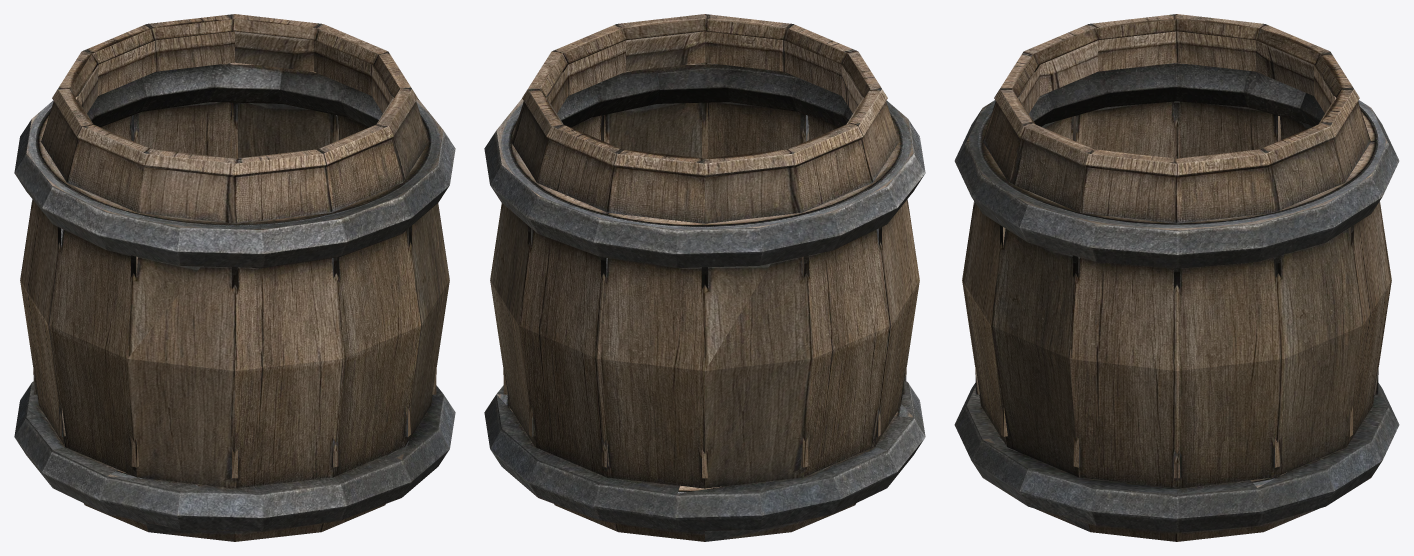
The model's file is kit_open_barrel.glb.
The picture shows the model from 3 angles, left to right: view 1: azimuth 30°, elevation 25°; view 2: azimuth 150°, elevation 25°; view 3: azimuth 270°, elevation 25°; orthographic projection.
Visible parts, largest first — view 1: Open barrel staves, Open barrel iron hoop.001, Open barrel iron hoop, Open barrel rim, Barrel inner lip; view 2: Open barrel staves, Open barrel iron hoop.001, Open barrel iron hoop, Open barrel rim, Barrel inner lip; view 3: Open barrel staves, Open barrel iron hoop.001, Open barrel iron hoop, Open barrel rim, Barrel inner lip.
Boxes of the visible parts, x1,y1,x2,y2 form: Open barrel staves: [20, 72, 449, 541]; Open barrel iron hoop.001: [14, 62, 455, 267]; Open barrel iron hoop: [14, 381, 455, 531]; Open barrel rim: [52, 14, 417, 177]; Barrel inner lip: [77, 31, 392, 123]; Open barrel staves: [490, 72, 919, 541]; Open barrel iron hoop.001: [484, 62, 925, 267]; Open barrel iron hoop: [484, 381, 925, 531]; Open barrel rim: [522, 14, 887, 177]; Barrel inner lip: [547, 31, 862, 123]; Open barrel staves: [962, 72, 1391, 541]; Open barrel iron hoop.001: [954, 62, 1399, 268]; Open barrel iron hoop: [954, 383, 1399, 532]; Open barrel rim: [994, 14, 1359, 177]; Barrel inner lip: [1019, 31, 1334, 123].
Bounding box in the file's own units: 0.642 × 0.6047 × 0.642.
Materials: 5 (5 with a texture image).
